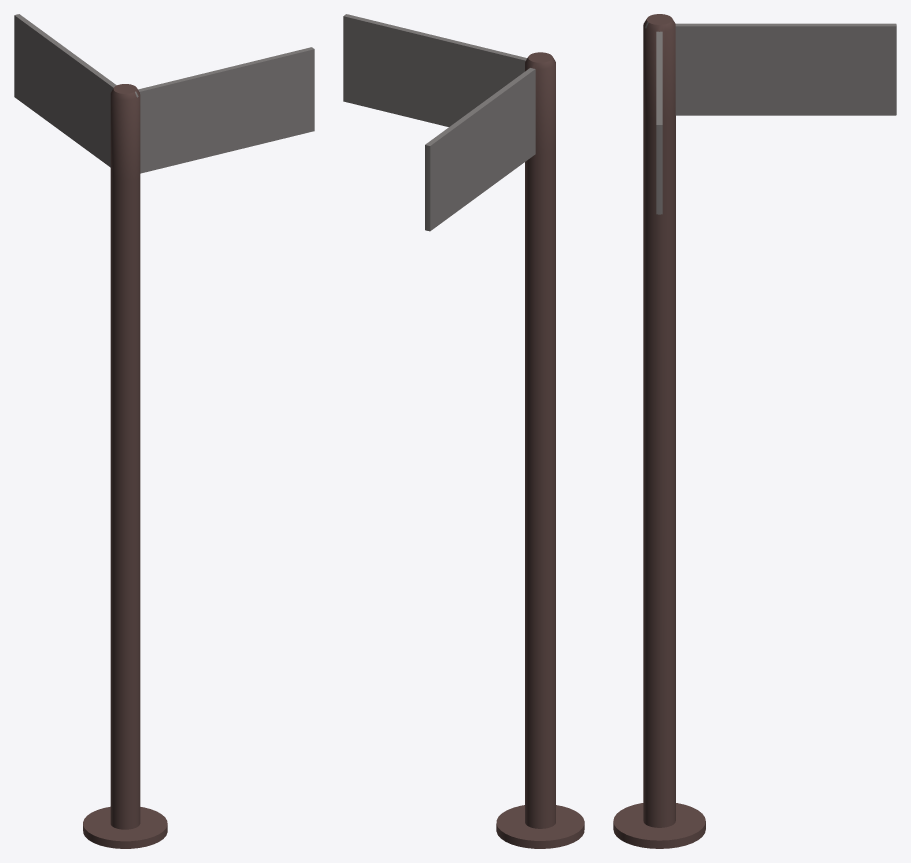
The model's file is Street Sign.fbx.
3 views of the same model, side by side, from view 1: azimuth 30°, elevation 25°; view 2: azimuth 150°, elevation 25°; view 3: azimuth 270°, elevation 25° (orthographic). The views are drawn at different scales.
Parts seen in each view (by area): view 1: Street Sign; view 2: Street Sign; view 3: Street Sign.
Part boxes in pixels (left/top/right/bottom): Street Sign: left=14, top=14, right=314, bottom=848; Street Sign: left=343, top=14, right=584, bottom=848; Street Sign: left=613, top=14, right=896, bottom=848.
Size of the model in its own units: 287 by 906 by 287.
